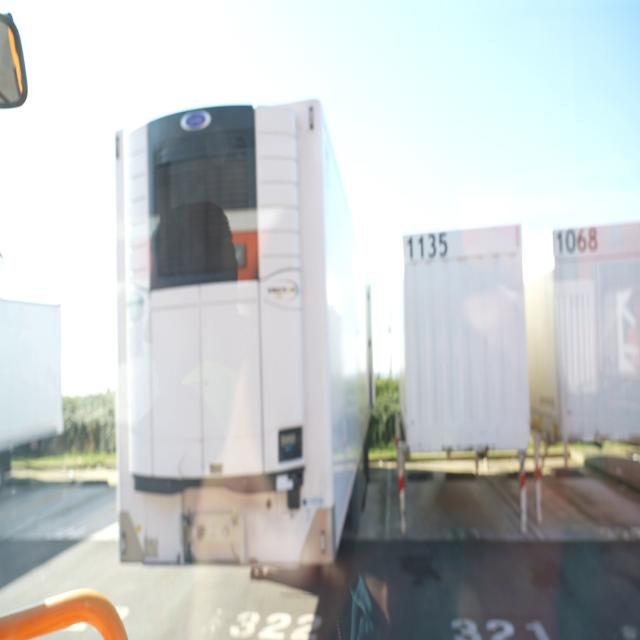Code: (553, 225, 601, 259), (405, 230, 448, 262)
